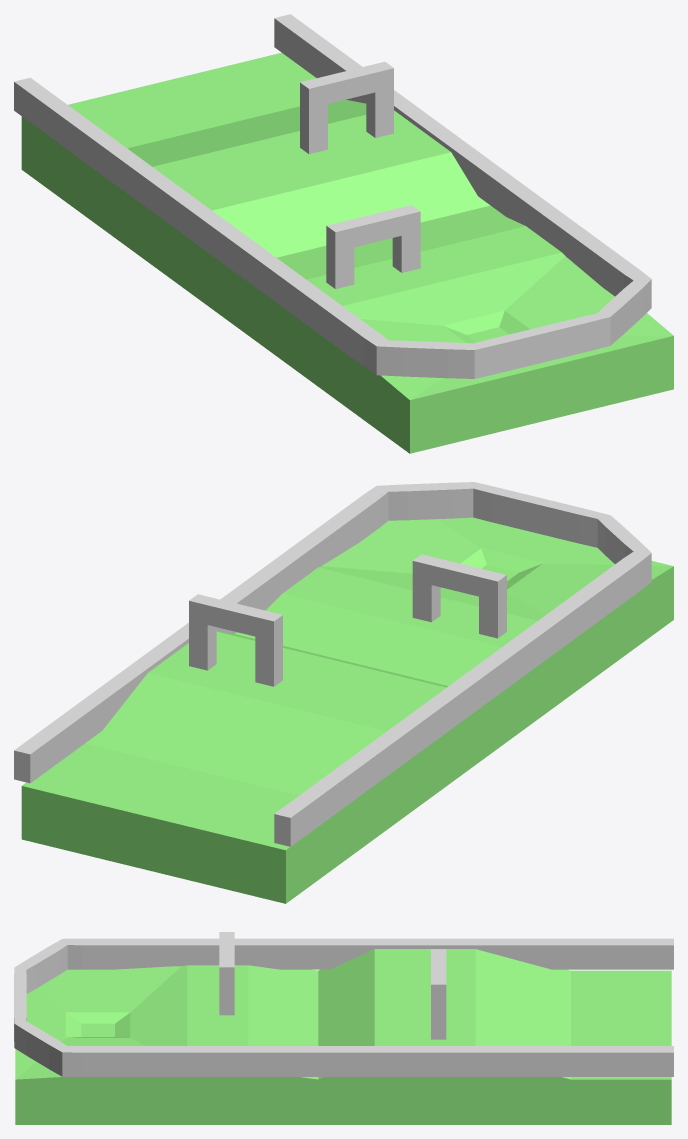
Rendered from level3-col.glb.
3 renders of one model, top to bottom at view 1: azimuth 30°, elevation 25°; view 2: azimuth 150°, elevation 25°; view 3: azimuth 270°, elevation 25°, orthographic. The views are drawn at different scales.
Visible parts, largest first — view 1: Cube_level2 -col.002_level3-col, Cube.001_level2 -col.001_level3-col, Cube_level2-col, Cube.001_level2-col; view 2: Cube_level2 -col.002_level3-col, Cube.001_level2 -col.001_level3-col, Cube_level2-col, Cube.001_level2-col; view 3: Cube_level2 -col.002_level3-col, Cube.001_level2 -col.001_level3-col, Cube_level2-col, Cube.001_level2-col.
Boxes of the visible parts, x1,y1,x2,y2 form: Cube_level2 -col.002_level3-col: (21, 52, 673, 453); Cube.001_level2 -col.001_level3-col: (14, 14, 651, 378); Cube_level2-col: (300, 61, 393, 154); Cube.001_level2-col: (326, 205, 420, 288); Cube_level2 -col.002_level3-col: (21, 517, 673, 903); Cube.001_level2 -col.001_level3-col: (14, 482, 651, 846); Cube_level2-col: (189, 594, 282, 686); Cube.001_level2-col: (412, 554, 506, 638); Cube_level2 -col.002_level3-col: (15, 949, 671, 1124); Cube.001_level2 -col.001_level3-col: (14, 938, 673, 1076); Cube_level2-col: (431, 949, 446, 1039); Cube.001_level2-col: (219, 932, 234, 1015).
Size of the model in its own units: 2.64 by 1.36 by 6.45.
